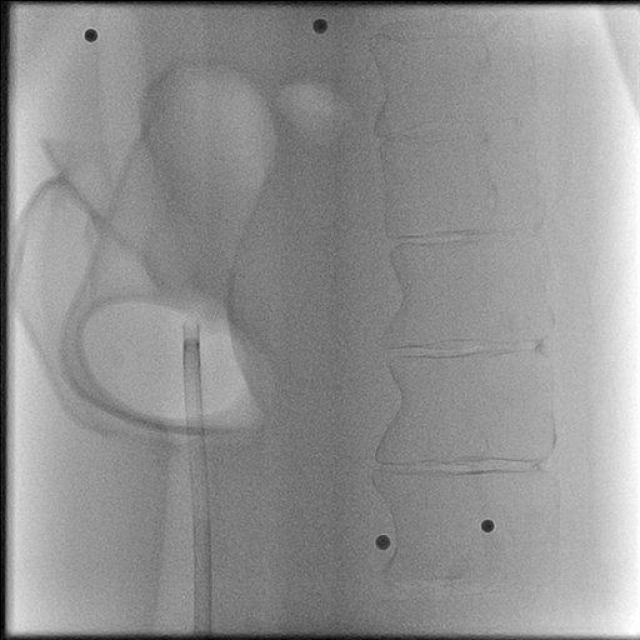bend: (192, 508, 210, 519)
entry: (194, 629, 211, 636)
marker: (184, 336, 200, 356)
tip: (182, 318, 200, 332)
